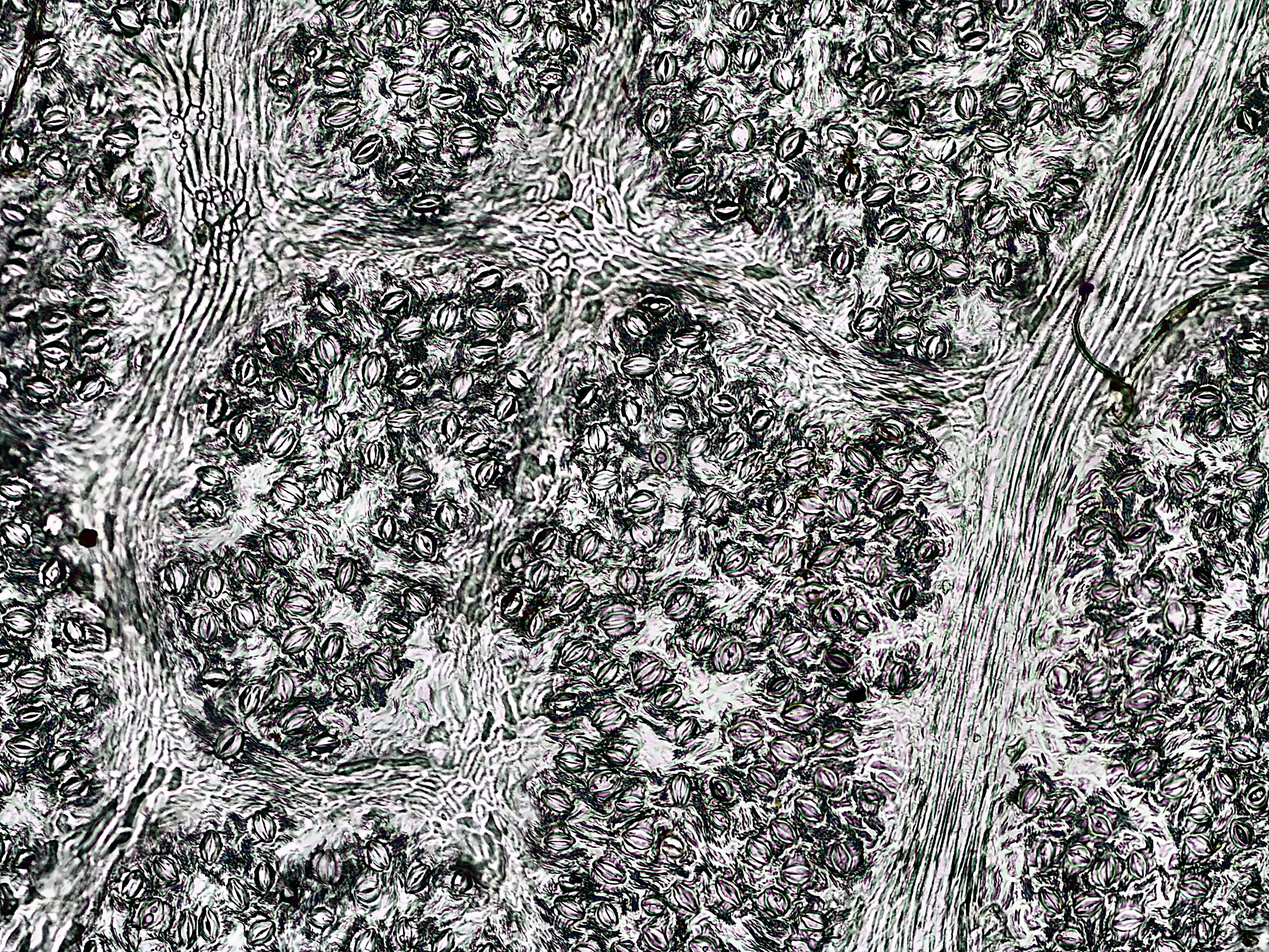stomata: (726, 720, 765, 747), (776, 127, 805, 162), (1012, 31, 1044, 62), (350, 134, 383, 164), (215, 727, 245, 760), (728, 117, 756, 152), (671, 881, 701, 913), (587, 769, 621, 797), (236, 550, 263, 585), (718, 638, 744, 674), (263, 533, 289, 569), (281, 627, 317, 653), (1226, 738, 1262, 764), (874, 483, 903, 515), (809, 542, 842, 570), (698, 488, 725, 522), (418, 15, 453, 41), (199, 565, 225, 600), (955, 176, 990, 202), (316, 848, 341, 884), (559, 583, 589, 613), (112, 5, 143, 34), (266, 427, 295, 458), (138, 898, 165, 931), (631, 659, 664, 686), (974, 130, 1011, 154), (271, 376, 297, 410), (177, 908, 198, 950), (1163, 600, 1188, 635), (664, 587, 694, 616), (979, 201, 1009, 230), (714, 876, 742, 907), (703, 39, 727, 75), (768, 532, 794, 565), (272, 480, 306, 505), (312, 334, 336, 369), (766, 173, 790, 208), (770, 60, 794, 95), (624, 489, 659, 513), (1079, 91, 1109, 119), (1017, 98, 1048, 125), (199, 905, 221, 943), (661, 373, 697, 396), (593, 859, 626, 884), (828, 840, 853, 873), (592, 702, 625, 727), (435, 500, 460, 533), (878, 218, 911, 243), (865, 77, 890, 110), (326, 101, 360, 125), (390, 72, 424, 96), (545, 21, 569, 55), (654, 51, 678, 85), (138, 212, 167, 240), (403, 864, 431, 893), (721, 544, 749, 573), (640, 926, 671, 952), (674, 167, 705, 193), (1243, 781, 1269, 812), (1230, 818, 1256, 849), (669, 136, 704, 159), (1233, 464, 1268, 487), (30, 42, 62, 67), (363, 351, 383, 391), (252, 810, 277, 842), (270, 670, 295, 702), (769, 739, 801, 764), (648, 441, 673, 473), (863, 182, 895, 207), (1104, 31, 1136, 56), (1129, 688, 1161, 713), (200, 829, 222, 865), (621, 827, 654, 851), (955, 85, 977, 121), (0, 520, 29, 547), (236, 353, 259, 387), (206, 390, 229, 424), (6, 735, 40, 758), (540, 789, 574, 812), (751, 602, 774, 636), (164, 560, 187, 594), (282, 594, 316, 617), (323, 407, 346, 441), (348, 30, 374, 60), (890, 321, 920, 347), (940, 258, 970, 284), (411, 125, 442, 150), (779, 631, 810, 656), (739, 452, 764, 483), (1125, 521, 1156, 546), (1052, 67, 1077, 98), (13, 667, 48, 689), (864, 553, 886, 588), (887, 286, 922, 308), (3, 609, 35, 633), (281, 711, 313, 735), (821, 727, 853, 751), (780, 704, 818, 724), (620, 356, 658, 376), (38, 340, 71, 363), (552, 751, 585, 774), (838, 163, 861, 196), (992, 86, 1025, 109), (316, 287, 343, 315), (77, 374, 105, 401), (153, 855, 180, 883), (598, 608, 634, 629), (335, 557, 356, 593), (770, 818, 799, 844), (813, 765, 839, 794), (891, 579, 917, 608), (231, 603, 257, 632), (367, 653, 396, 679), (334, 673, 360, 702), (245, 919, 275, 944), (824, 649, 854, 674), (1046, 664, 1071, 694), (307, 732, 341, 754), (781, 447, 815, 469), (877, 127, 911, 149), (554, 896, 585, 920), (697, 93, 721, 124), (834, 489, 858, 520), (1018, 782, 1042, 813), (578, 531, 601, 563), (1190, 386, 1222, 409), (429, 88, 464, 109), (671, 772, 692, 807), (1096, 854, 1117, 889), (403, 588, 430, 615), (846, 446, 873, 473), (763, 887, 789, 915), (746, 836, 772, 864), (822, 603, 848, 631), (385, 10, 407, 43), (888, 662, 910, 695), (1112, 908, 1145, 930), (479, 91, 508, 116), (78, 237, 107, 262), (365, 840, 390, 869), (653, 684, 682, 709), (651, 4, 680, 29), (1200, 700, 1225, 729), (5, 136, 29, 166), (323, 65, 353, 89), (41, 557, 65, 587), (226, 878, 250, 908), (198, 612, 222, 642), (1168, 668, 1192, 698), (398, 469, 432, 490), (470, 306, 501, 329), (230, 414, 253, 445), (321, 633, 344, 664), (733, 0, 756, 31), (322, 468, 344, 500), (644, 103, 666, 135), (708, 394, 740, 416), (594, 658, 620, 685), (411, 530, 437, 557), (683, 433, 710, 459), (910, 32, 937, 58), (104, 128, 139, 148), (795, 797, 823, 822), (749, 766, 777, 791), (719, 432, 744, 460), (1056, 927, 1084, 952), (675, 716, 699, 745), (874, 422, 903, 446), (1161, 775, 1190, 799), (24, 376, 57, 397), (452, 371, 473, 404), (1113, 471, 1146, 492), (693, 624, 716, 654), (1030, 201, 1053, 231), (528, 560, 550, 591), (437, 302, 459, 333), (587, 469, 618, 491), (1074, 895, 1105, 917), (639, 296, 673, 316), (923, 220, 948, 247), (448, 127, 480, 148), (474, 268, 502, 292), (354, 879, 382, 903), (197, 495, 225, 519), (587, 423, 608, 455), (1174, 469, 1202, 493), (537, 67, 566, 90), (615, 566, 638, 595), (1057, 14, 1080, 43), (1185, 833, 1214, 856), (378, 292, 408, 314), (238, 686, 260, 716), (543, 832, 576, 852), (194, 465, 227, 485), (476, 459, 498, 489), (395, 321, 426, 342), (15, 706, 46, 727), (255, 861, 276, 892), (991, 257, 1012, 288), (851, 609, 876, 635), (1213, 769, 1238, 795), (71, 687, 98, 711), (596, 901, 620, 928), (660, 408, 687, 432), (1040, 886, 1064, 913), (121, 870, 144, 898), (306, 906, 334, 929), (563, 642, 591, 665), (831, 246, 854, 274), (11, 229, 40, 251), (1204, 652, 1226, 681), (1127, 850, 1149, 879), (781, 864, 811, 885), (796, 494, 826, 515), (395, 917, 414, 950), (442, 412, 461, 445), (709, 777, 734, 802), (908, 248, 933, 273), (952, 6, 977, 31), (1129, 755, 1154, 780), (498, 3, 524, 27), (0, 203, 26, 227), (294, 361, 318, 387), (854, 308, 880, 332), (1053, 793, 1076, 820), (599, 746, 630, 766), (742, 42, 762, 73), (960, 32, 991, 52), (39, 156, 67, 178), (462, 432, 490, 454), (1092, 579, 1120, 601), (846, 53, 868, 81), (870, 34, 891, 63), (1201, 504, 1222, 533), (1138, 714, 1167, 735), (82, 330, 107, 354), (525, 609, 545, 639), (630, 523, 655, 547), (549, 693, 579, 713), (1108, 64, 1138, 84), (1088, 812, 1113, 836), (63, 619, 86, 645), (660, 835, 686, 858), (1080, 524, 1106, 547), (1065, 844, 1091, 867), (41, 313, 68, 335), (495, 394, 517, 421), (903, 98, 925, 125), (1036, 838, 1054, 871), (798, 910, 829, 929), (201, 669, 232, 688), (670, 328, 701, 347), (1178, 879, 1209, 898), (42, 110, 70, 131), (0, 481, 28, 502), (1083, 1, 1111, 22), (614, 794, 643, 814), (468, 339, 497, 359), (828, 124, 857, 144), (386, 409, 420, 426), (449, 46, 473, 70), (1085, 706, 1117, 724), (626, 312, 649, 337), (1083, 664, 1108, 687), (264, 330, 286, 356), (767, 675, 793, 697), (1229, 408, 1255, 430), (713, 200, 740, 221), (410, 195, 445, 211), (384, 614, 412, 634), (708, 808, 732, 831), (915, 539, 938, 563), (41, 285, 70, 304), (378, 514, 397, 543), (1204, 414, 1226, 439), (1188, 802, 1213, 824), (502, 588, 523, 614), (909, 452, 935, 473), (622, 398, 641, 426), (393, 158, 416, 181), (49, 750, 72, 773), (576, 386, 599, 409), (751, 409, 774, 432), (1189, 567, 1212, 590), (57, 258, 81, 280), (535, 529, 559, 551), (926, 335, 948, 359), (83, 297, 109, 317), (640, 896, 666, 916), (365, 441, 385, 467), (767, 490, 787, 516), (85, 168, 104, 195), (60, 778, 87, 797), (120, 181, 143, 203), (507, 369, 530, 391), (905, 172, 930, 192), (1054, 178, 1079, 198), (397, 371, 424, 389), (452, 871, 472, 895), (1104, 625, 1129, 644), (512, 307, 532, 330), (1128, 651, 1155, 668), (1195, 918, 1212, 945), (268, 70, 293, 88), (1243, 883, 1264, 904), (1210, 554, 1231, 573)
